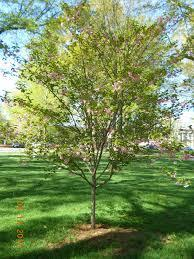tree: (8, 1, 173, 230)
